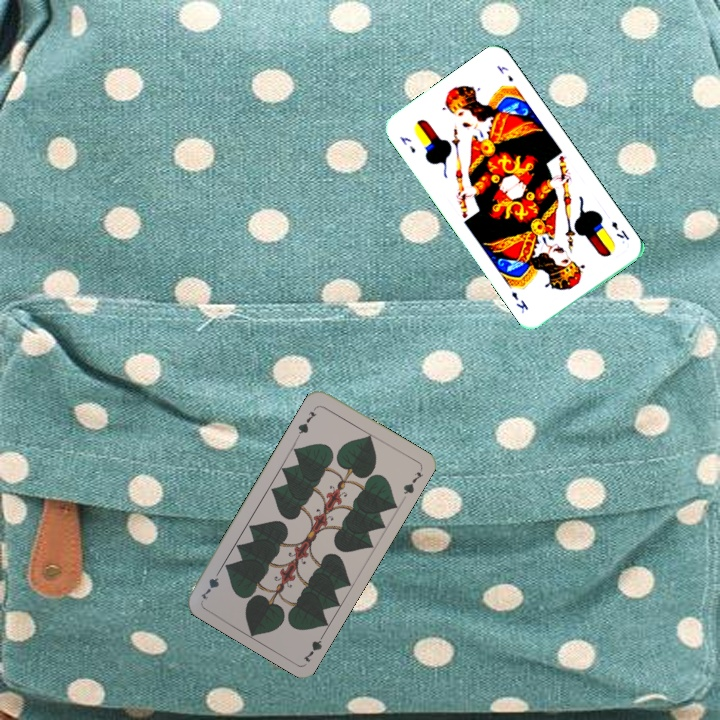EK: (607, 217, 632, 242), (396, 132, 418, 156)
G7: (299, 628, 329, 665), (294, 403, 320, 440)
